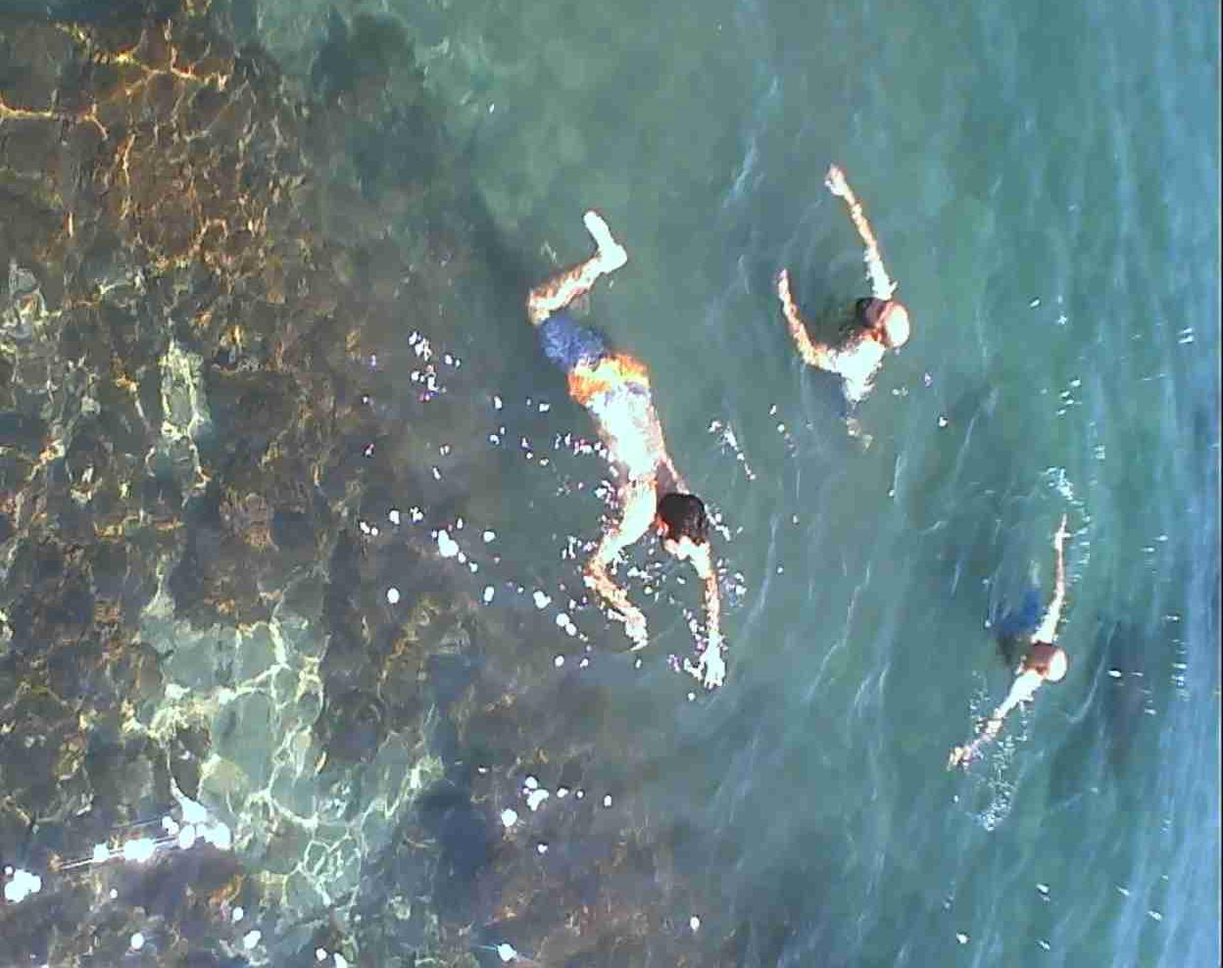swimmer: (491, 172, 729, 695), (960, 475, 1120, 855), (783, 172, 907, 430)
